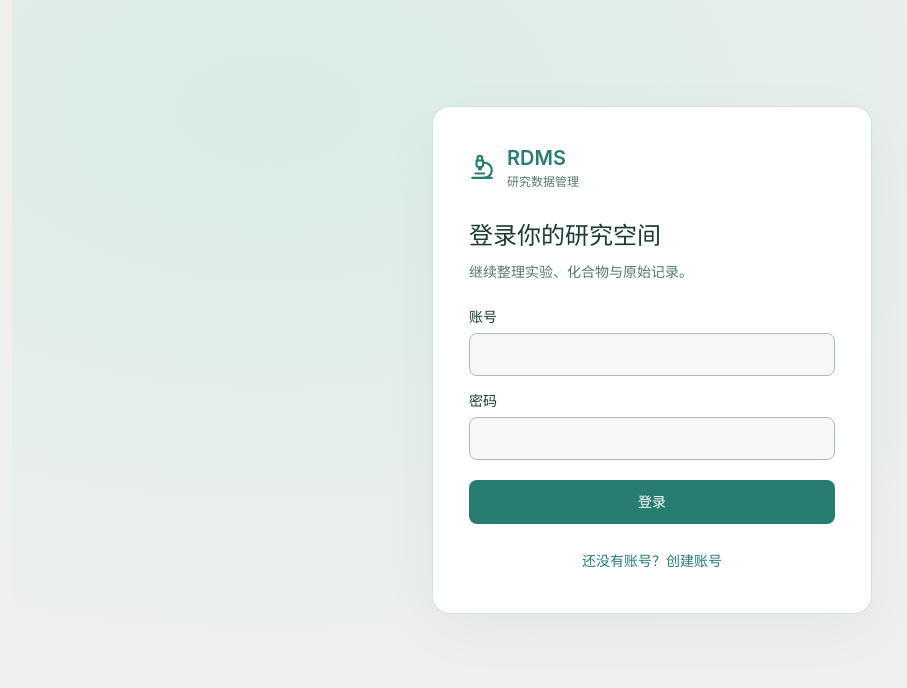
it: account access › protects the workspace and validates confirmation before registration
expect the text "的空间" is not shown: met
expect the heading "登录你的研究空间" is shown: met, box [469,221,661,250]
Click the button "还没有账号？创建账号" at x=652, y=560, box [576,544,728,577]
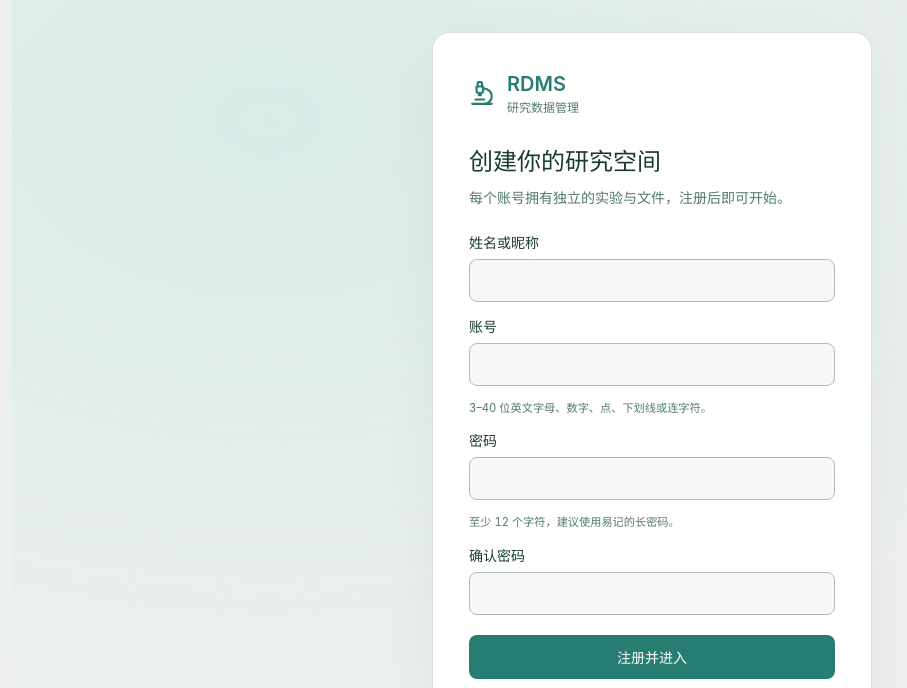
Type "研究者" into the field labelled "姓名或昵称" at x=652, y=280, box [469,259,835,302]
Type "researcher" into the field labelled "账号" at x=652, y=364, box [469,343,835,386]
Type "long-password-one" into the password field labelled "密码" at x=652, y=479, box [469,457,835,500]
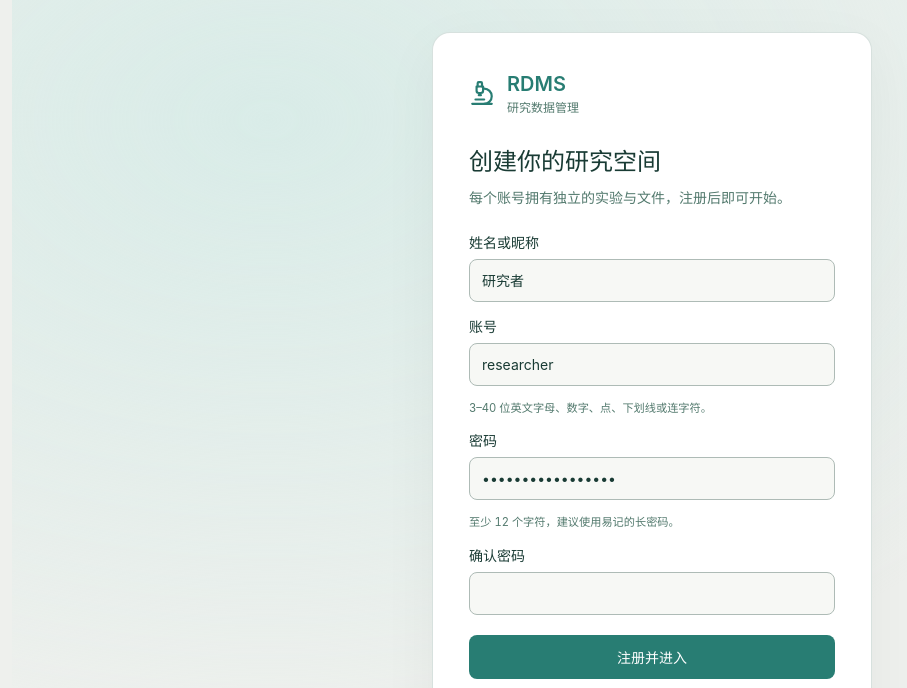
Type "long-password-two" into the password field labelled "确认密码" at x=652, y=594, box [469,572,835,615]
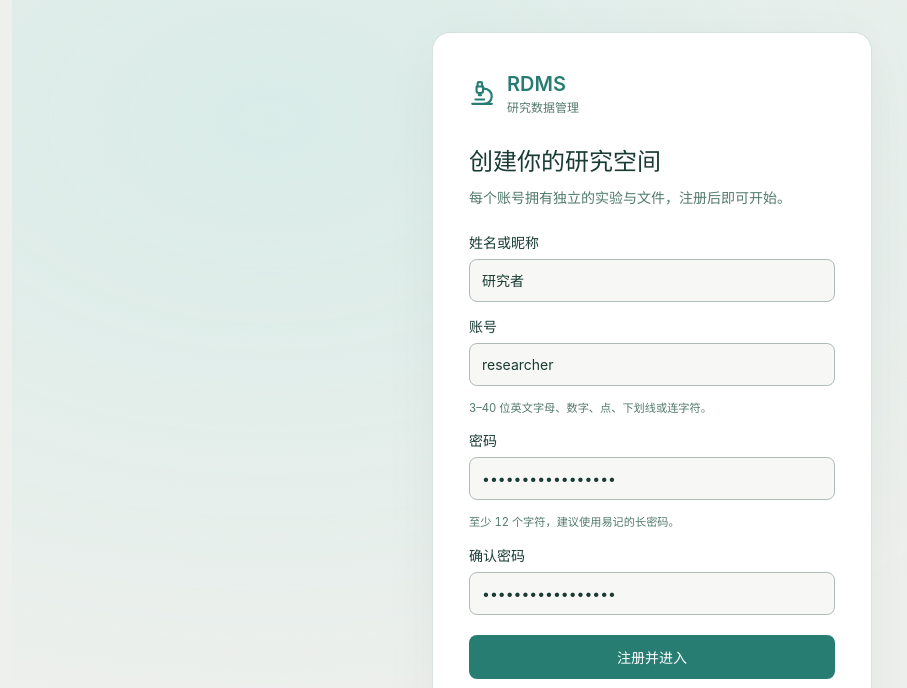
Submit the form "注册并进入", box [469,232,835,679]
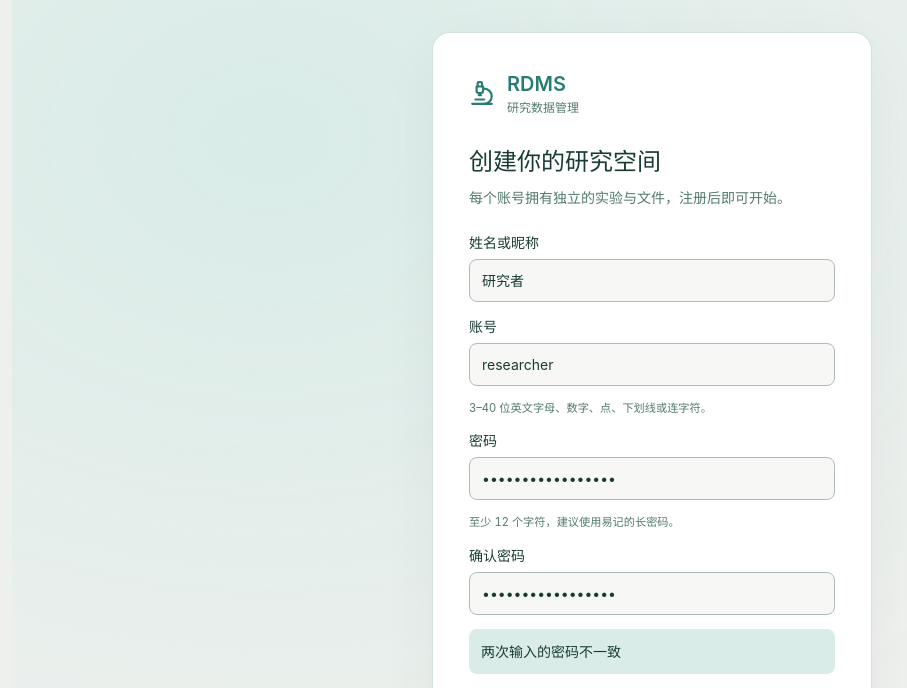
expect the message reads "两次输入的密码不一致": met, box [481,643,621,660]
Type "long-password-one" into the password field labelled "确认密码" at x=652, y=594, box [469,572,835,615]
(page scrolled)
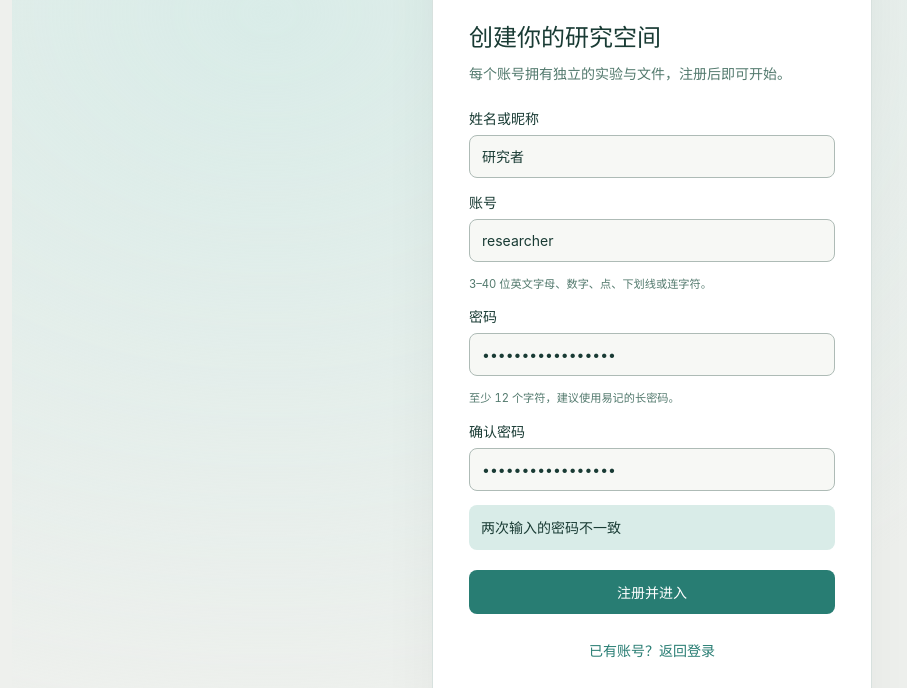
Submit the form "注册并进入", box [469,108,835,614]
(page scrolled)
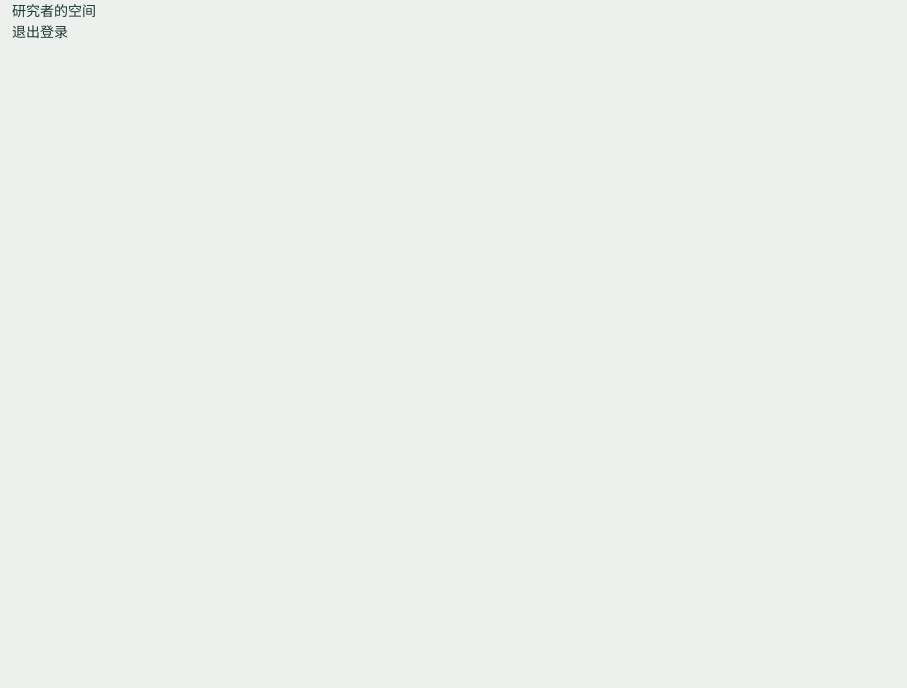
expect the text "研究者的空间" is shown: met, box [12,2,96,19]
